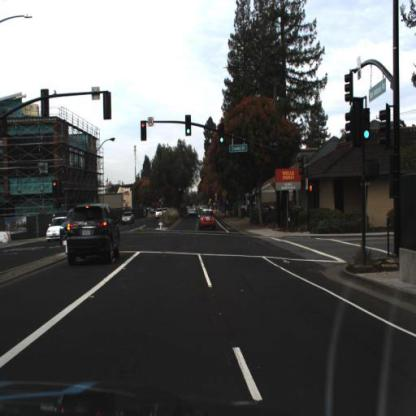car: (64, 201, 120, 268), (46, 215, 71, 243), (197, 207, 222, 235), (121, 210, 135, 225)
trafficLight-Green: (362, 110, 371, 141), (186, 115, 191, 136), (220, 128, 225, 149)
trafficLight-RedLeft: (53, 178, 60, 199), (142, 121, 147, 144)
